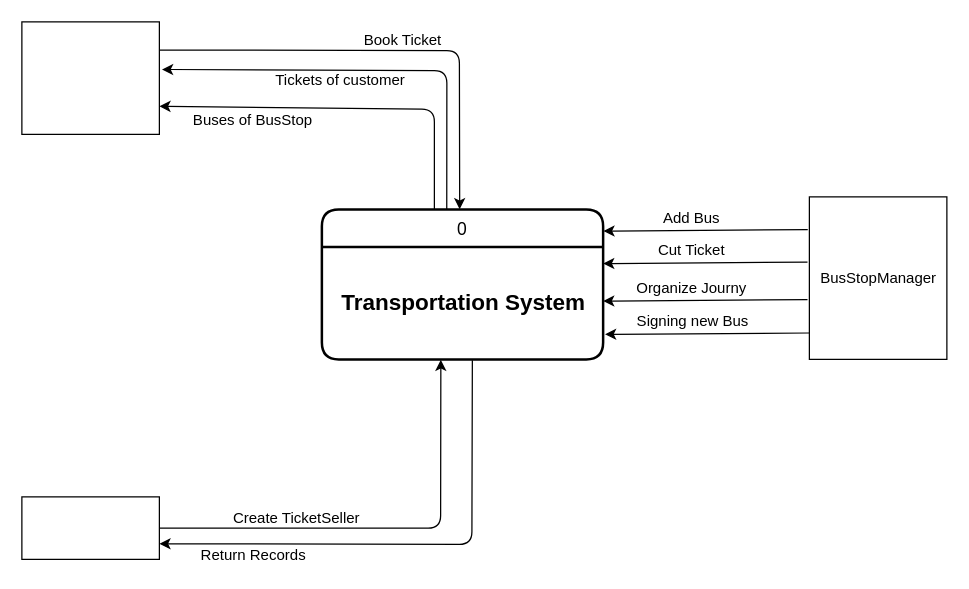
The diagram is 969 pixels wide and 589 high, and some of its shapes have lost their labels. Each missing label, with the box of its shape:
Admin: (21, 496, 159, 559)
Customer: (21, 21, 159, 134)
